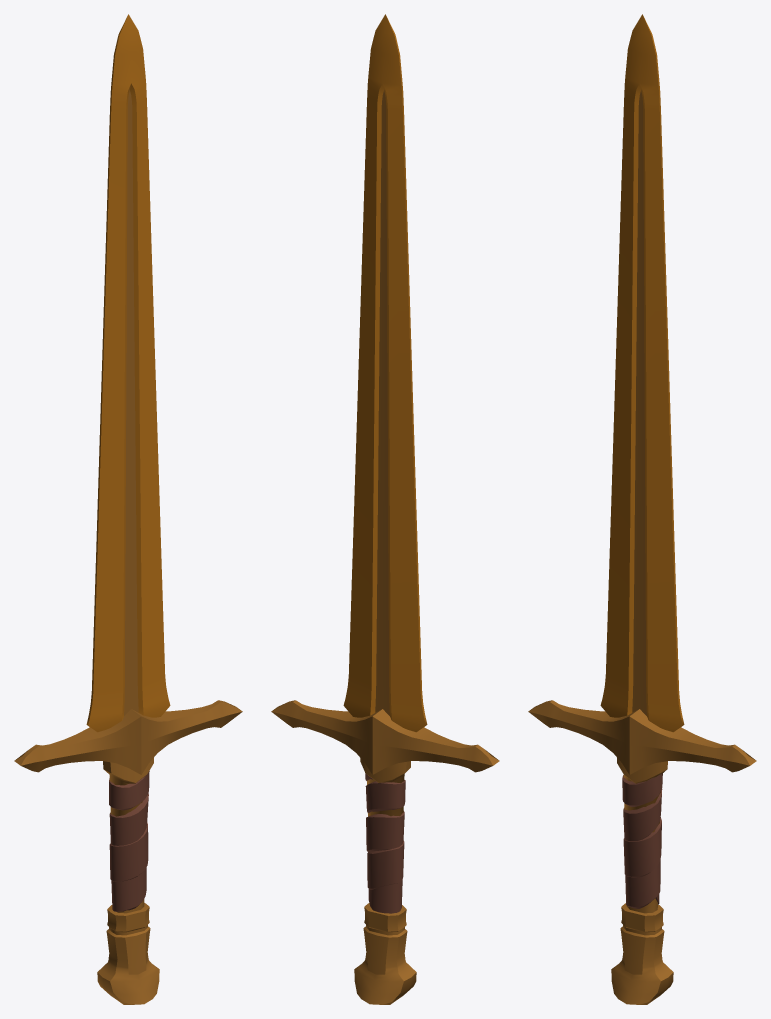
File: sword_bronze.glb
3 views of the same model, side by side, from view 1: azimuth 30°, elevation 25°; view 2: azimuth 150°, elevation 25°; view 3: azimuth 330°, elevation 25° (orthographic).
Visible parts, largest first — view 1: Sword_Bronze; view 2: Sword_Bronze; view 3: Sword_Bronze.
Part boxes in pixels (bbox=[...]): Sword_Bronze: bbox=[14, 14, 242, 1004]; Sword_Bronze: bbox=[271, 14, 499, 1004]; Sword_Bronze: bbox=[528, 14, 756, 1004].
Size of the model in its own units: 0.2666 by 1.13 by 0.0654.
